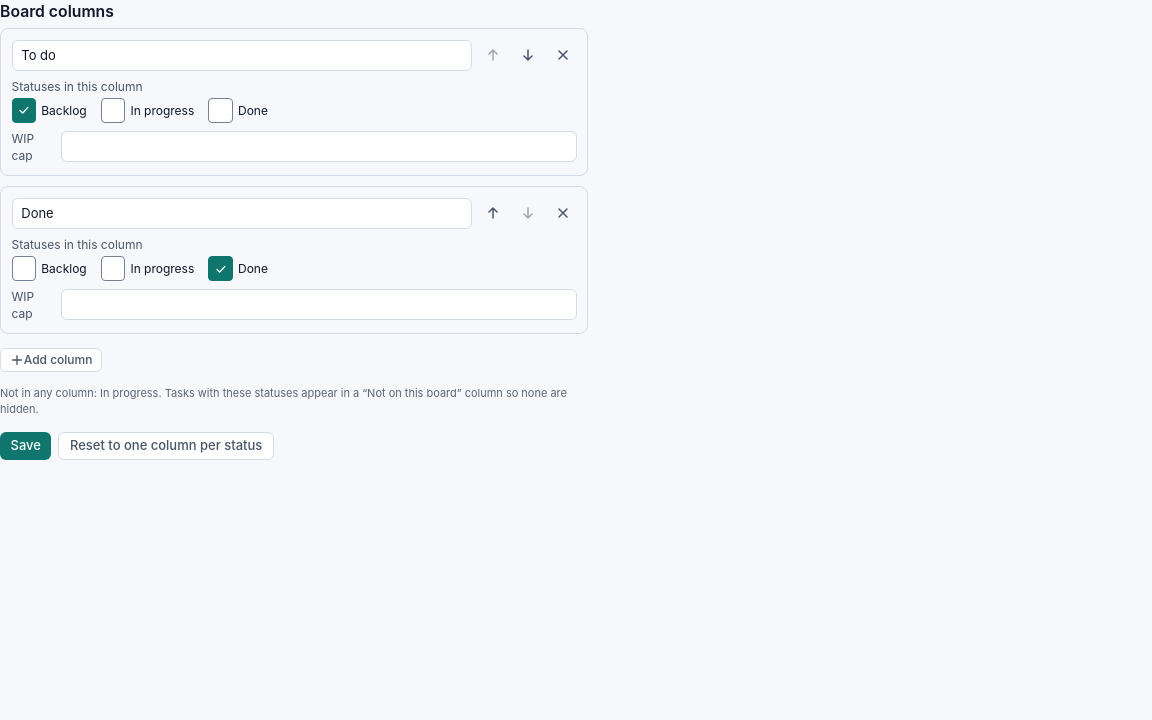
Test: BoardColumnsPanel › cancelling the reset confirm performs no reset
Expected: the list with test id "board-columns-list" is shown, x1=0 y1=28 x2=588 y2=334
Click the button with test id "board-columns-reset" at (166, 446), box x1=58 y1=432 x2=274 y2=460
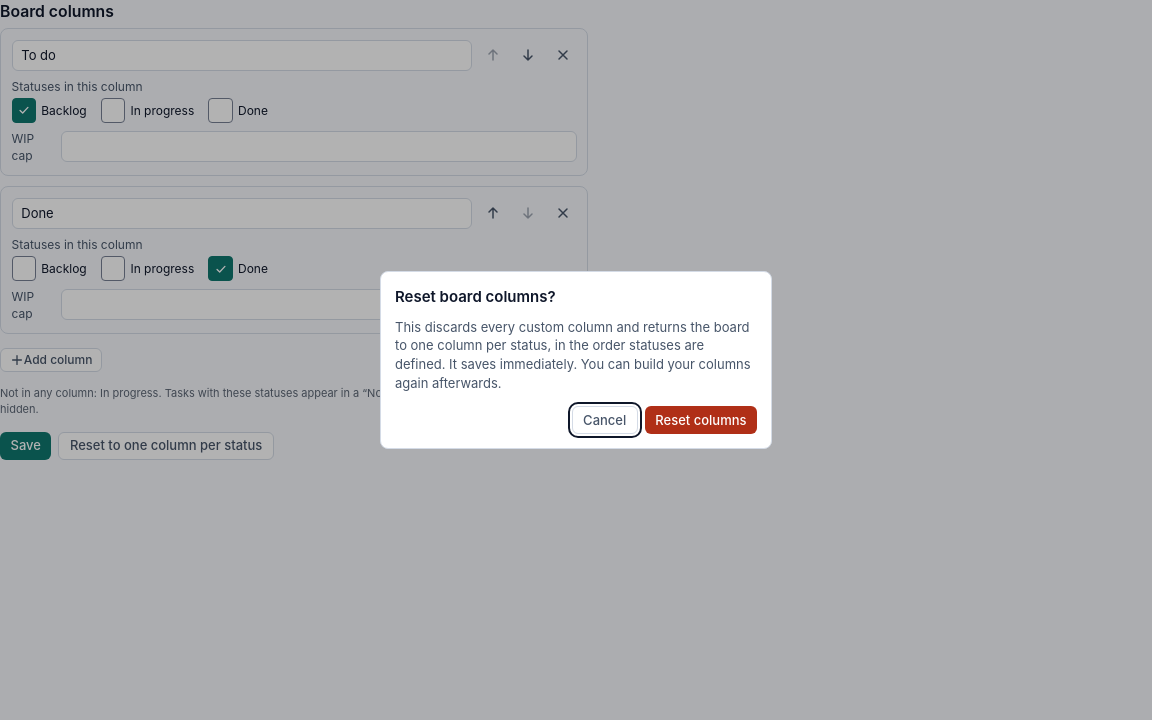
Click the button with test id "board-columns-reset-cancel" at (605, 420), box x1=572 y1=406 x2=638 y2=434
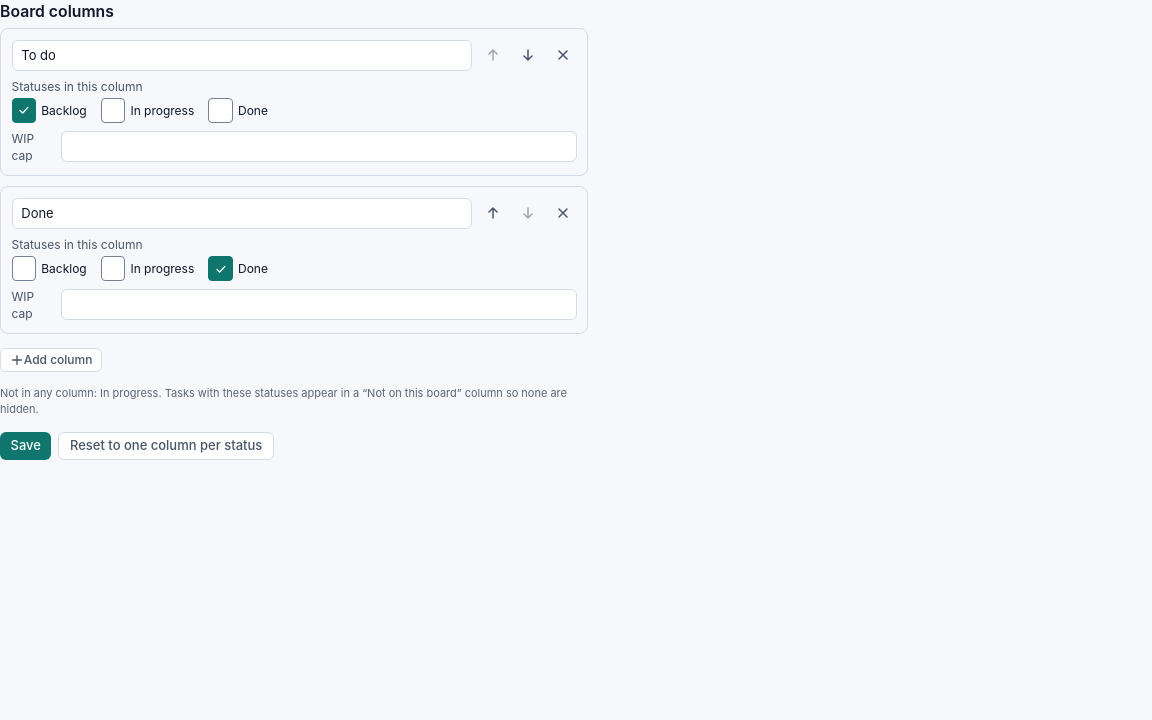
Expected: the element with test id "board-columns-reset-confirm" is gone
